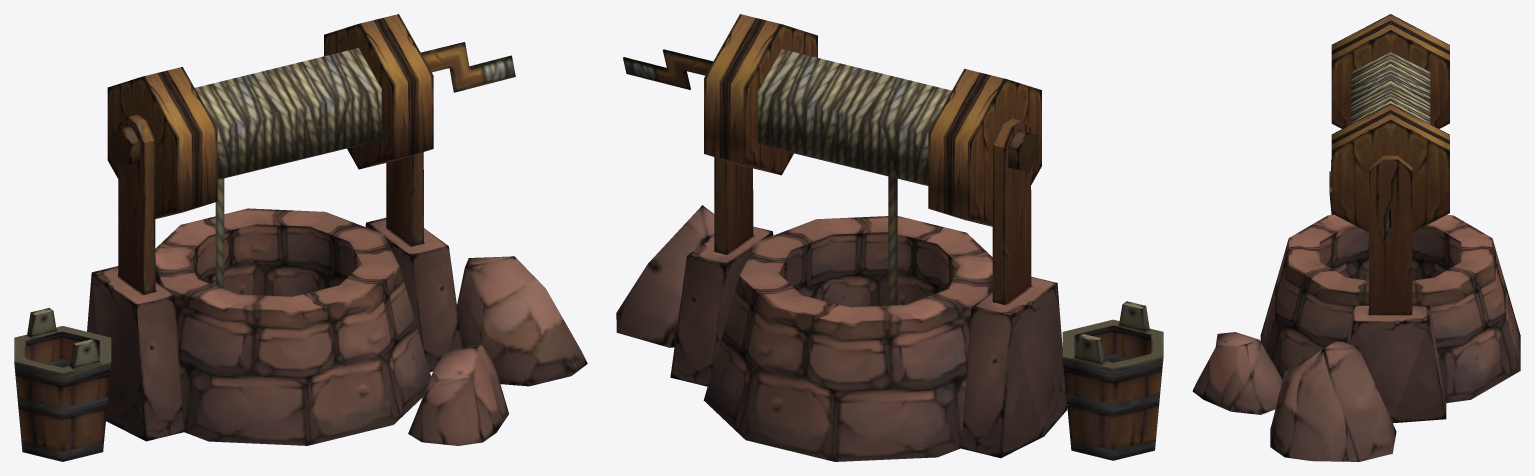
File: 2_SM_Jing_01.FBX
3 views of the same model, side by side, from view 1: azimuth 30°, elevation 25°; view 2: azimuth 150°, elevation 25°; view 3: azimuth 270°, elevation 25° (orthographic). The views are drawn at different scales.
Parts seen in each view (by area): view 1: 2_SM_Jing_01_01, 2_SM_Jing_01_02, 2_SM_Jing_01_03, 2_SM_Jing_01_04; view 2: 2_SM_Jing_01_01, 2_SM_Jing_01_02, 2_SM_Jing_01_03; view 3: 2_SM_Jing_01_01, 2_SM_Jing_01_03, 2_SM_Jing_01_04.
Part boxes in pixels (<box>): 2_SM_Jing_01_01: <box>87,14,515,445</box>; 2_SM_Jing_01_02: <box>14,308,111,461</box>; 2_SM_Jing_01_03: <box>457,256,587,386</box>; 2_SM_Jing_01_04: <box>408,344,508,445</box>; 2_SM_Jing_01_01: <box>623,14,1067,461</box>; 2_SM_Jing_01_02: <box>1062,301,1163,460</box>; 2_SM_Jing_01_03: <box>616,205,714,347</box>; 2_SM_Jing_01_01: <box>1260,14,1520,423</box>; 2_SM_Jing_01_03: <box>1270,339,1396,461</box>; 2_SM_Jing_01_04: <box>1192,332,1282,414</box>.
Bounding box in the file's own units: 348 × 208 × 218.
1 material, 1 textured.
